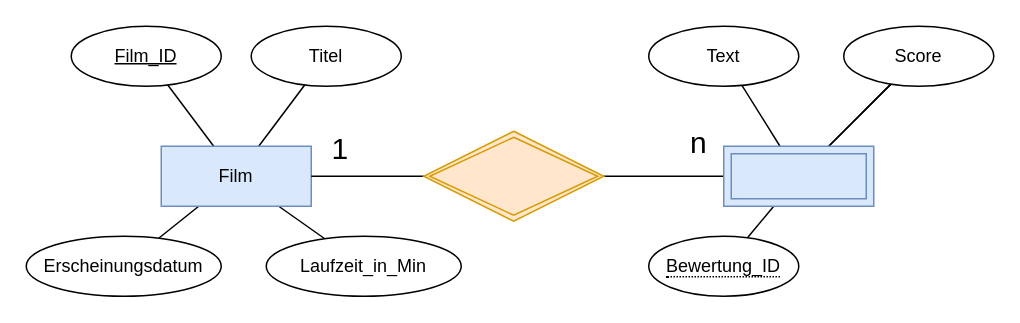
The diagram is 1020 pixels wide and 323 high, and some of its shapes have lost their labels. The shapes that lost their labels are listed below. From the top down, each one's box as (x1, y1, x2, y2) in pixels, then its label:
(422, 130, 604, 221): hat
(722, 145, 874, 206): Bewertung
